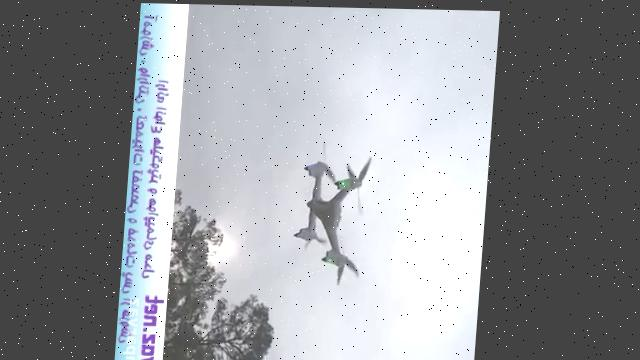drone: (292, 137, 376, 287)
